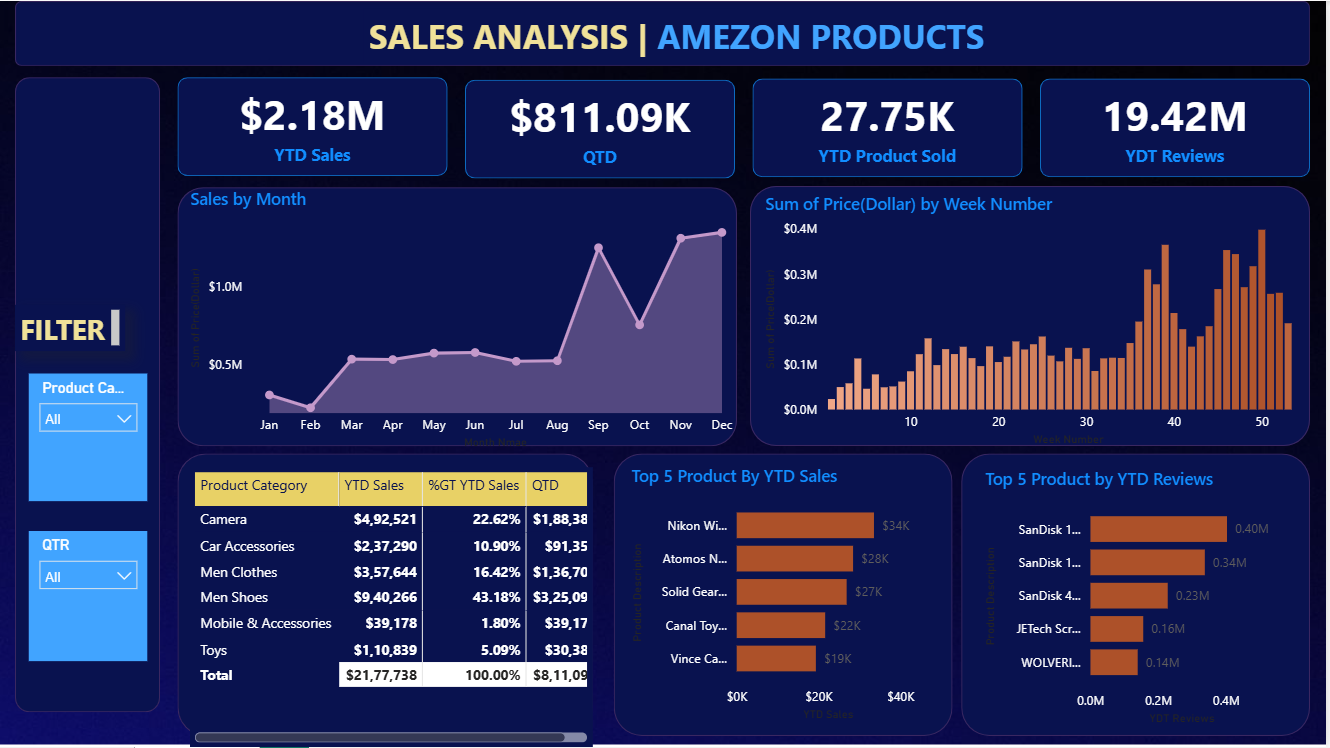

The page's visual inventory and layout, read from the dashboard file:
{"tool":"powerbi","page":{"name":"Dashboard","canvas":[1280,720],"ordinal":0},"visuals":[{"type":"shape","box":[14.5,0,1249.9,62.7],"z":0},{"type":"shape","box":[592.4,436.7,326.9,272.7],"z":1000},{"type":"textbox","box":[351.1,7.2,635,53],"z":2000},{"type":"shape","box":[171.3,73.6,260.6,95.3],"z":3000},{"type":"shape","box":[14.5,73.6,139.9,612.9],"z":4000},{"type":"card","fields":{"Values":["Amazon_Data.YTD Sales"]},"box":[171.3,73.6,260.6,91.7],"z":5000},{"type":"shape","box":[726.3,74.8,260.6,95.3],"z":6000},{"type":"shape","box":[1003.8,74.8,260.6,95.3],"z":7000},{"type":"shape","box":[448.8,76,260.6,95.3],"z":8000},{"type":"card","fields":{"Values":["Amazon_Data.QTD"]},"box":[448.8,76,260.6,91.7],"z":9000},{"type":"card","fields":{"Values":["Amazon_Data.YTD Product Sold"]},"box":[726.3,74.8,260.6,91.7],"z":10000},{"type":"card","fields":{"Values":["Amazon_Data.YDT Reviews"]},"box":[1003.8,74.8,260.6,91.7],"z":11000},{"type":"shape","box":[171.3,179.8,540,250],"z":12000},{"type":"areaChart","title":"Sales by Month ","fields":{"Category":["Date Table.Month Nmae"],"Y":["Sum(Amazon_Data.Price(Dollar))"]},"box":[178.6,179.8,539.3,257],"z":13000},{"type":"shape","box":[723.9,178.6,540.5,250.9],"z":14000},{"type":"columnChart","fields":{"Category":["Date Table.Week Number"],"Y":["Sum(Amazon_Data.Price(Dollar))"]},"box":[733.5,184.6,539.3,249.7],"z":15000},{"type":"shape","box":[171.3,436.7,400.5,272.7],"z":16000},{"type":"pivotTable","fields":{"Rows":["Amazon_Data.Product Category"],"Values":["Amazon_Data.YTD Sales","Divide(Amazon_Data.YTD Sales, ScopedEval(Amazon_Data.YTD Sales, []))","Amazon_Data.QTD"]},"box":[183.4,450,388.5,270.2],"z":17000},{"type":"shape","box":[927.8,436.7,336.6,272.7],"z":18000},{"type":"clusteredBarChart","title":"Top 5 Product By YTD Sales","fields":{"Category":["Amazon_Data.Product Description"],"Y":["Amazon_Data.YTD Sales"]},"box":[604.4,446.4,302.8,253.4],"z":19000},{"type":"clusteredBarChart","title":"Top 5 Product by YTD Reviews","fields":{"Category":["Amazon_Data.Product Description"],"Y":["Amazon_Data.YDT Reviews"]},"box":[945.8,450,302.8,253.4],"z":20000},{"type":"slicer","fields":{"Values":["Amazon_Data.Product Category"]},"box":[27.7,359.5,114.6,123.1],"z":21000},{"type":"slicer","fields":{"Values":["Date Table.QTR"]},"box":[27.7,511.5,114.6,125.5],"z":22000},{"type":"textbox","box":[14.5,293.2,106.2,44.6],"z":23000}]}

Visuals, with their boxes in screenshot pixels (x1, y1, x2, y2), scaled from the page's 1280x720 canvas onto the 1330x748 screenshot:
shape: (15, 0, 1314, 65)
shape: (616, 454, 955, 737)
textbox: (365, 7, 1025, 63)
shape: (178, 76, 449, 175)
shape: (15, 76, 160, 713)
card - Amazon_Data.YTD Sales: (178, 76, 449, 172)
shape: (755, 78, 1025, 177)
shape: (1043, 78, 1314, 177)
shape: (466, 79, 737, 178)
card - Amazon_Data.QTD: (466, 79, 737, 174)
card - Amazon_Data.YTD Product Sold: (755, 78, 1025, 173)
card - Amazon_Data.YDT Reviews: (1043, 78, 1314, 173)
shape: (178, 187, 739, 447)
"Sales by Month " areaChart: (186, 187, 746, 454)
shape: (752, 186, 1314, 446)
columnChart - Date Table.Week Number x Sum(Amazon_Data.Price(Dollar)): (762, 192, 1323, 451)
shape: (178, 454, 594, 737)
pivotTable - Amazon_Data.Product Category x Amazon_Data.YTD Sales: (191, 468, 594, 747)
shape: (964, 454, 1314, 737)
"Top 5 Product By YTD Sales" clusteredBarChart: (628, 464, 943, 727)
"Top 5 Product by YTD Reviews" clusteredBarChart: (983, 468, 1297, 731)
slicer - Amazon_Data.Product Category: (29, 373, 148, 501)
slicer - Date Table.QTR: (29, 531, 148, 662)
textbox: (15, 305, 125, 351)
